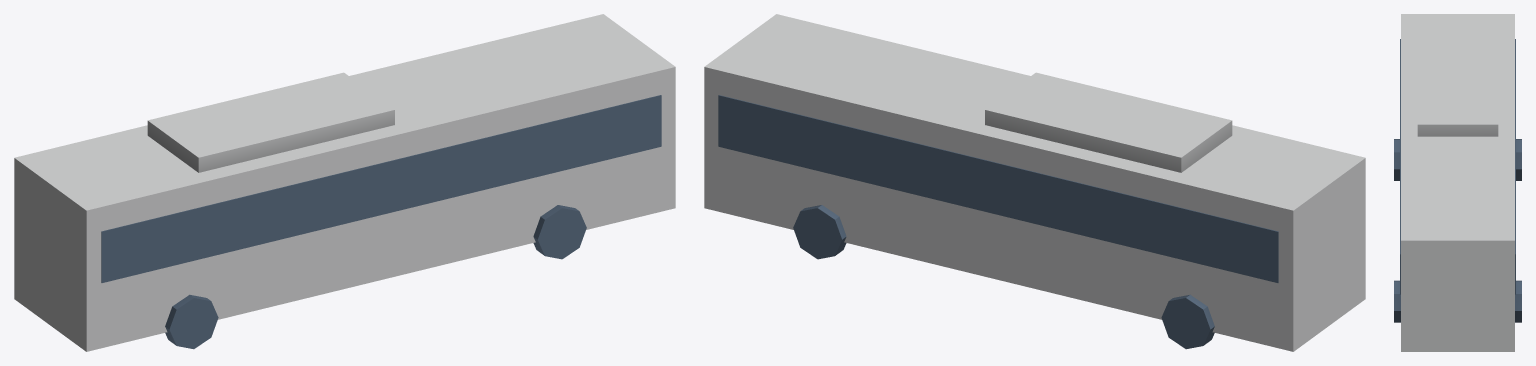
Rendered from bus.glb.
The picture shows the model from 3 angles, left to right: view 1: azimuth 30°, elevation 25°; view 2: azimuth 150°, elevation 25°; view 3: azimuth 270°, elevation 25°; orthographic projection. The views are drawn at different scales.
Visible parts, largest first — view 1: bus; view 2: bus; view 3: bus.
Boxes of the visible parts, left/top/right/bottom form: bus: left=14, top=14, right=675, bottom=351; bus: left=704, top=14, right=1365, bottom=351; bus: left=1394, top=14, right=1521, bottom=351.
Bounding box in the file's own units: 12 × 3.42 × 2.86.
